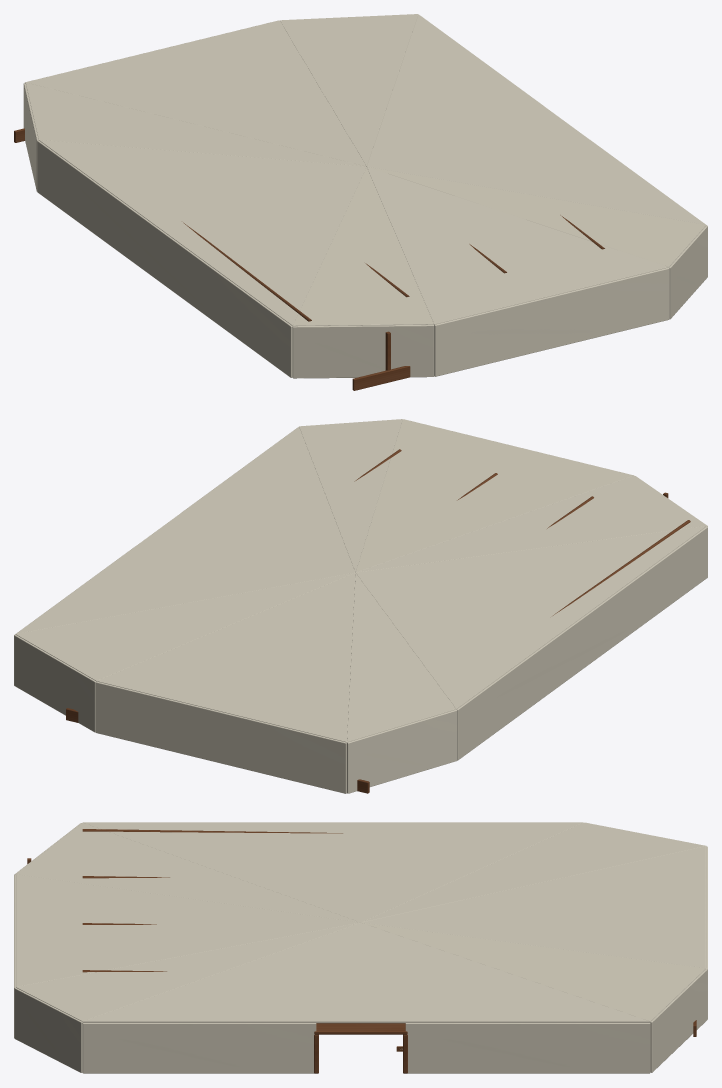
Rendered from SOL_D12_directory_09_entry001.glb.
3 renders of one model, top to bottom at view 1: azimuth 30°, elevation 25°; view 2: azimuth 150°, elevation 25°; view 3: azimuth 270°, elevation 25°, orthographic.
Parts seen in each view (by area): view 1: D12_directory_09__crown_wedge7, D12_directory_09__crown_wedge3, D12_directory_09__crown_wedge1, D12_directory_09__crown_wedge5, D12_directory_09__enclosure_3, D12_directory_09__enclosure_5, D12_directory_09__crown_wedge4, D12_directory_09__crown_wedge0, D12_directory_09__crown_wedge2, D12_directory_09__crown_wedge6, D12_directory_09__enclosure_4, D12_directory_09__enclosure_6 (+2 smaller); view 2: D12_directory_09__crown_wedge7, D12_directory_09__crown_wedge3, D12_directory_09__crown_wedge1, D12_directory_09__crown_wedge5, D12_directory_09__enclosure_3, D12_directory_09__enclosure_1, D12_directory_09__crown_wedge0, D12_directory_09__crown_wedge4, D12_directory_09__crown_wedge2, D12_directory_09__crown_wedge6, D12_directory_09__enclosure_2, D12_directory_09__enclosure_0; view 3: D12_directory_09__crown_wedge7, D12_directory_09__crown_wedge3, D12_directory_09__crown_wedge1, D12_directory_09__crown_wedge5, D12_directory_09__entry_right, D12_directory_09__entry_left, D12_directory_09__crown_wedge0, D12_directory_09__crown_wedge4, D12_directory_09__crown_wedge2, D12_directory_09__crown_wedge6, D12_directory_09__enclosure_6, D12_directory_09__enclosure_0 (+3 smaller).
Boxes of the visible parts, left/top/right/bottom form: D12_directory_09__crown_wedge7: left=367, top=14, right=705, bottom=224; D12_directory_09__crown_wedge3: left=39, top=140, right=366, bottom=325; D12_directory_09__crown_wedge1: left=26, top=20, right=366, bottom=166; D12_directory_09__crown_wedge5: left=367, top=167, right=668, bottom=324; D12_directory_09__enclosure_3: left=37, top=140, right=292, bottom=377; D12_directory_09__enclosure_5: left=434, top=267, right=669, bottom=376; D12_directory_09__crown_wedge4: left=293, top=167, right=433, bottom=326; D12_directory_09__crown_wedge0: left=280, top=14, right=418, bottom=166; D12_directory_09__crown_wedge2: left=25, top=82, right=365, bottom=166; D12_directory_09__crown_wedge6: left=368, top=167, right=706, bottom=267; D12_directory_09__enclosure_4: left=292, top=324, right=434, bottom=378; D12_directory_09__enclosure_6: left=669, top=225, right=707, bottom=319; D12_directory_09__crown_wedge7: left=16, top=427, right=355, bottom=633; D12_directory_09__crown_wedge3: left=356, top=526, right=706, bottom=708; D12_directory_09__crown_wedge1: left=96, top=573, right=355, bottom=742; D12_directory_09__crown_wedge5: left=355, top=419, right=633, bottom=572; D12_directory_09__enclosure_3: left=456, top=526, right=707, bottom=760; D12_directory_09__enclosure_1: left=95, top=681, right=346, bottom=793; D12_directory_09__crown_wedge0: left=15, top=573, right=353, bottom=681; D12_directory_09__crown_wedge4: left=356, top=475, right=705, bottom=572; D12_directory_09__crown_wedge2: left=347, top=573, right=456, bottom=742; D12_directory_09__crown_wedge6: left=299, top=419, right=402, bottom=572; D12_directory_09__enclosure_2: left=347, top=709, right=457, bottom=793; D12_directory_09__enclosure_0: left=14, top=634, right=96, bottom=732; D12_directory_09__crown_wedge7: left=83, top=923, right=650, bottom=1023; D12_directory_09__crown_wedge3: left=84, top=822, right=582, bottom=922; D12_directory_09__crown_wedge1: left=362, top=846, right=705, bottom=968; D12_directory_09__crown_wedge5: left=16, top=874, right=359, bottom=986; D12_directory_09__entry_right: left=405, top=1023, right=650, bottom=1073; D12_directory_09__entry_left: left=82, top=1023, right=316, bottom=1073; D12_directory_09__crown_wedge0: left=361, top=922, right=705, bottom=1021; D12_directory_09__crown_wedge4: left=16, top=822, right=359, bottom=922; D12_directory_09__crown_wedge2: left=361, top=822, right=705, bottom=922; D12_directory_09__crown_wedge6: left=16, top=923, right=359, bottom=1021; D12_directory_09__enclosure_6: left=14, top=988, right=82, bottom=1072; D12_directory_09__enclosure_0: left=650, top=969, right=707, bottom=1072.
Bounding box in the file's own units: 42.73 × 5.43 × 62.36.
20 materials, 20 textured.
